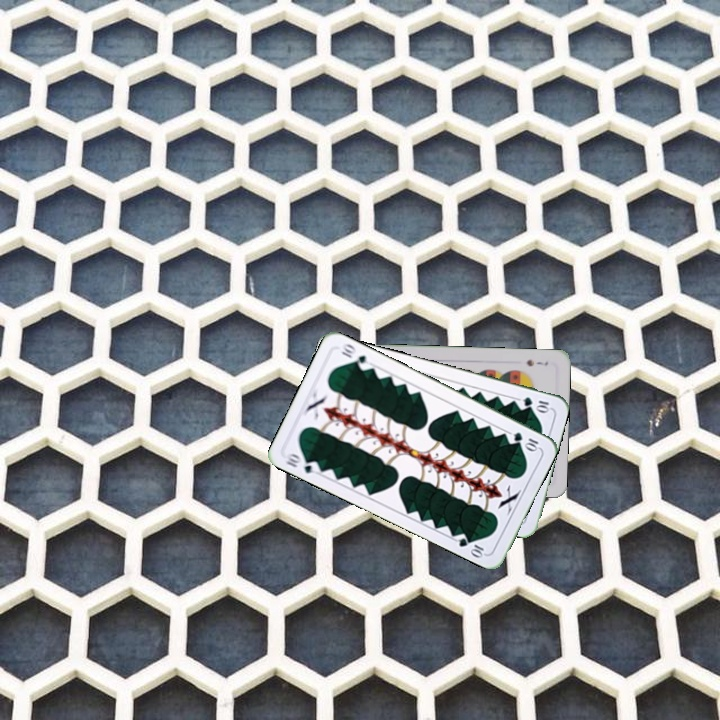G10: (281, 449, 322, 476), (509, 428, 542, 453), (519, 393, 553, 415)
S7: (522, 355, 550, 369)
